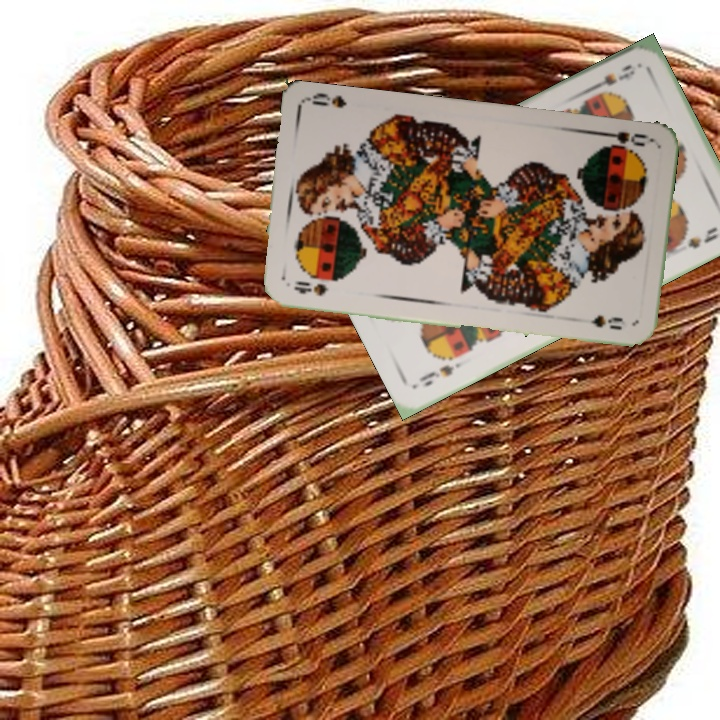S9: (585, 60, 637, 94), (415, 360, 457, 389)
SO: (594, 127, 653, 153), (290, 276, 331, 299)
